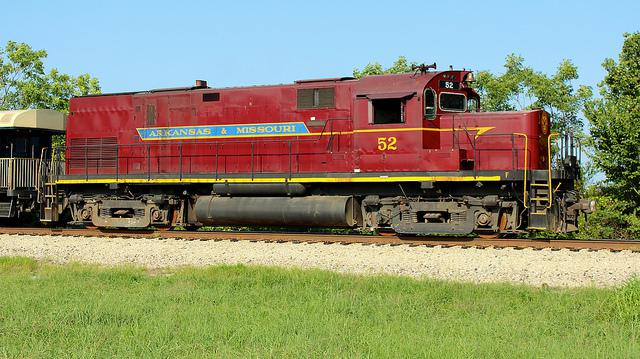Train: (3, 71, 592, 245)
